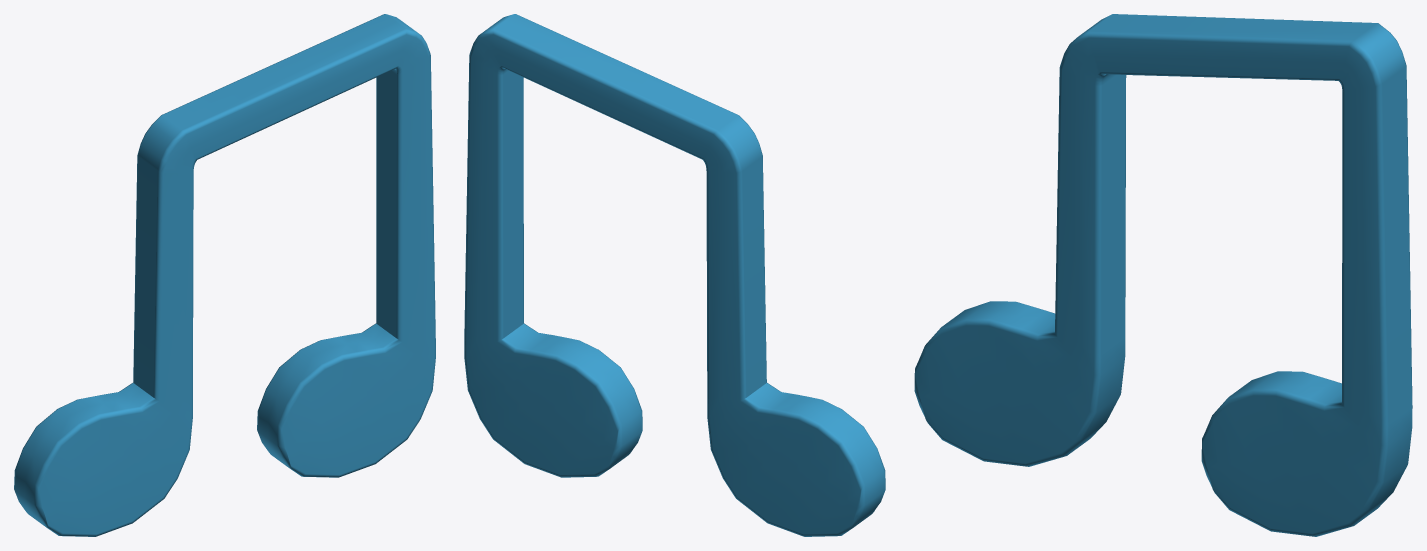
The model's file is 0-singlebarnote_blue.fbx.
3 renders of one model, left to right at view 1: azimuth 30°, elevation 25°; view 2: azimuth 150°, elevation 25°; view 3: azimuth 330°, elevation 25°, orthographic. The views are drawn at different scales.
Parts seen in each view (by area): view 1: 0-singlebarnote_blue; view 2: 0-singlebarnote_blue; view 3: 0-singlebarnote_blue.
Part boxes in pixels (box(x1,y1,x2,y2)): 0-singlebarnote_blue: box(14, 14, 435, 536); 0-singlebarnote_blue: box(464, 14, 885, 536); 0-singlebarnote_blue: box(914, 14, 1412, 536).
Size of the model in its own units: 87.62 by 90.24 by 9.4.
